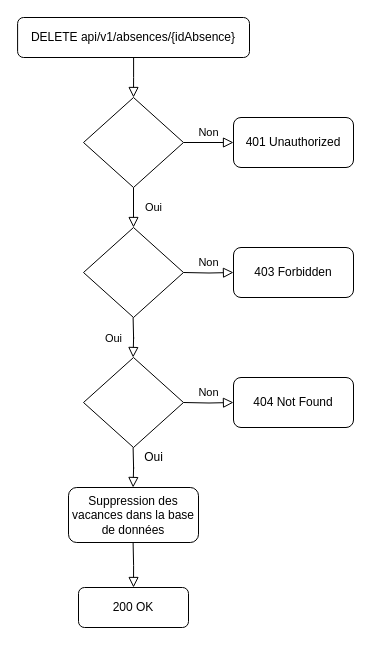
The diagram is 371 pixels wide and 645 high, and some of its shapes have lost their labels. Here are the shapes that lost their labels. From the top down, the box of each, then its label:
(82, 96, 184, 188): Header Authorization présent
(82, 226, 184, 318): Utilisateur administrateur
(82, 356, 184, 448): Vacance à supprimer existante
